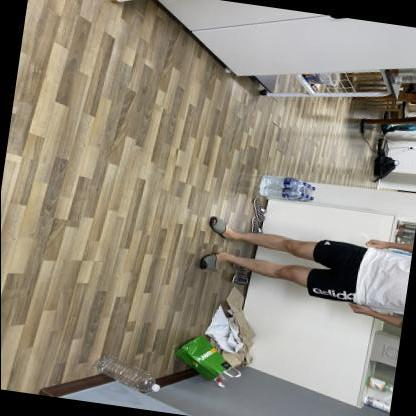no_safety-shoe: (192, 245, 233, 276), (200, 215, 240, 245)
